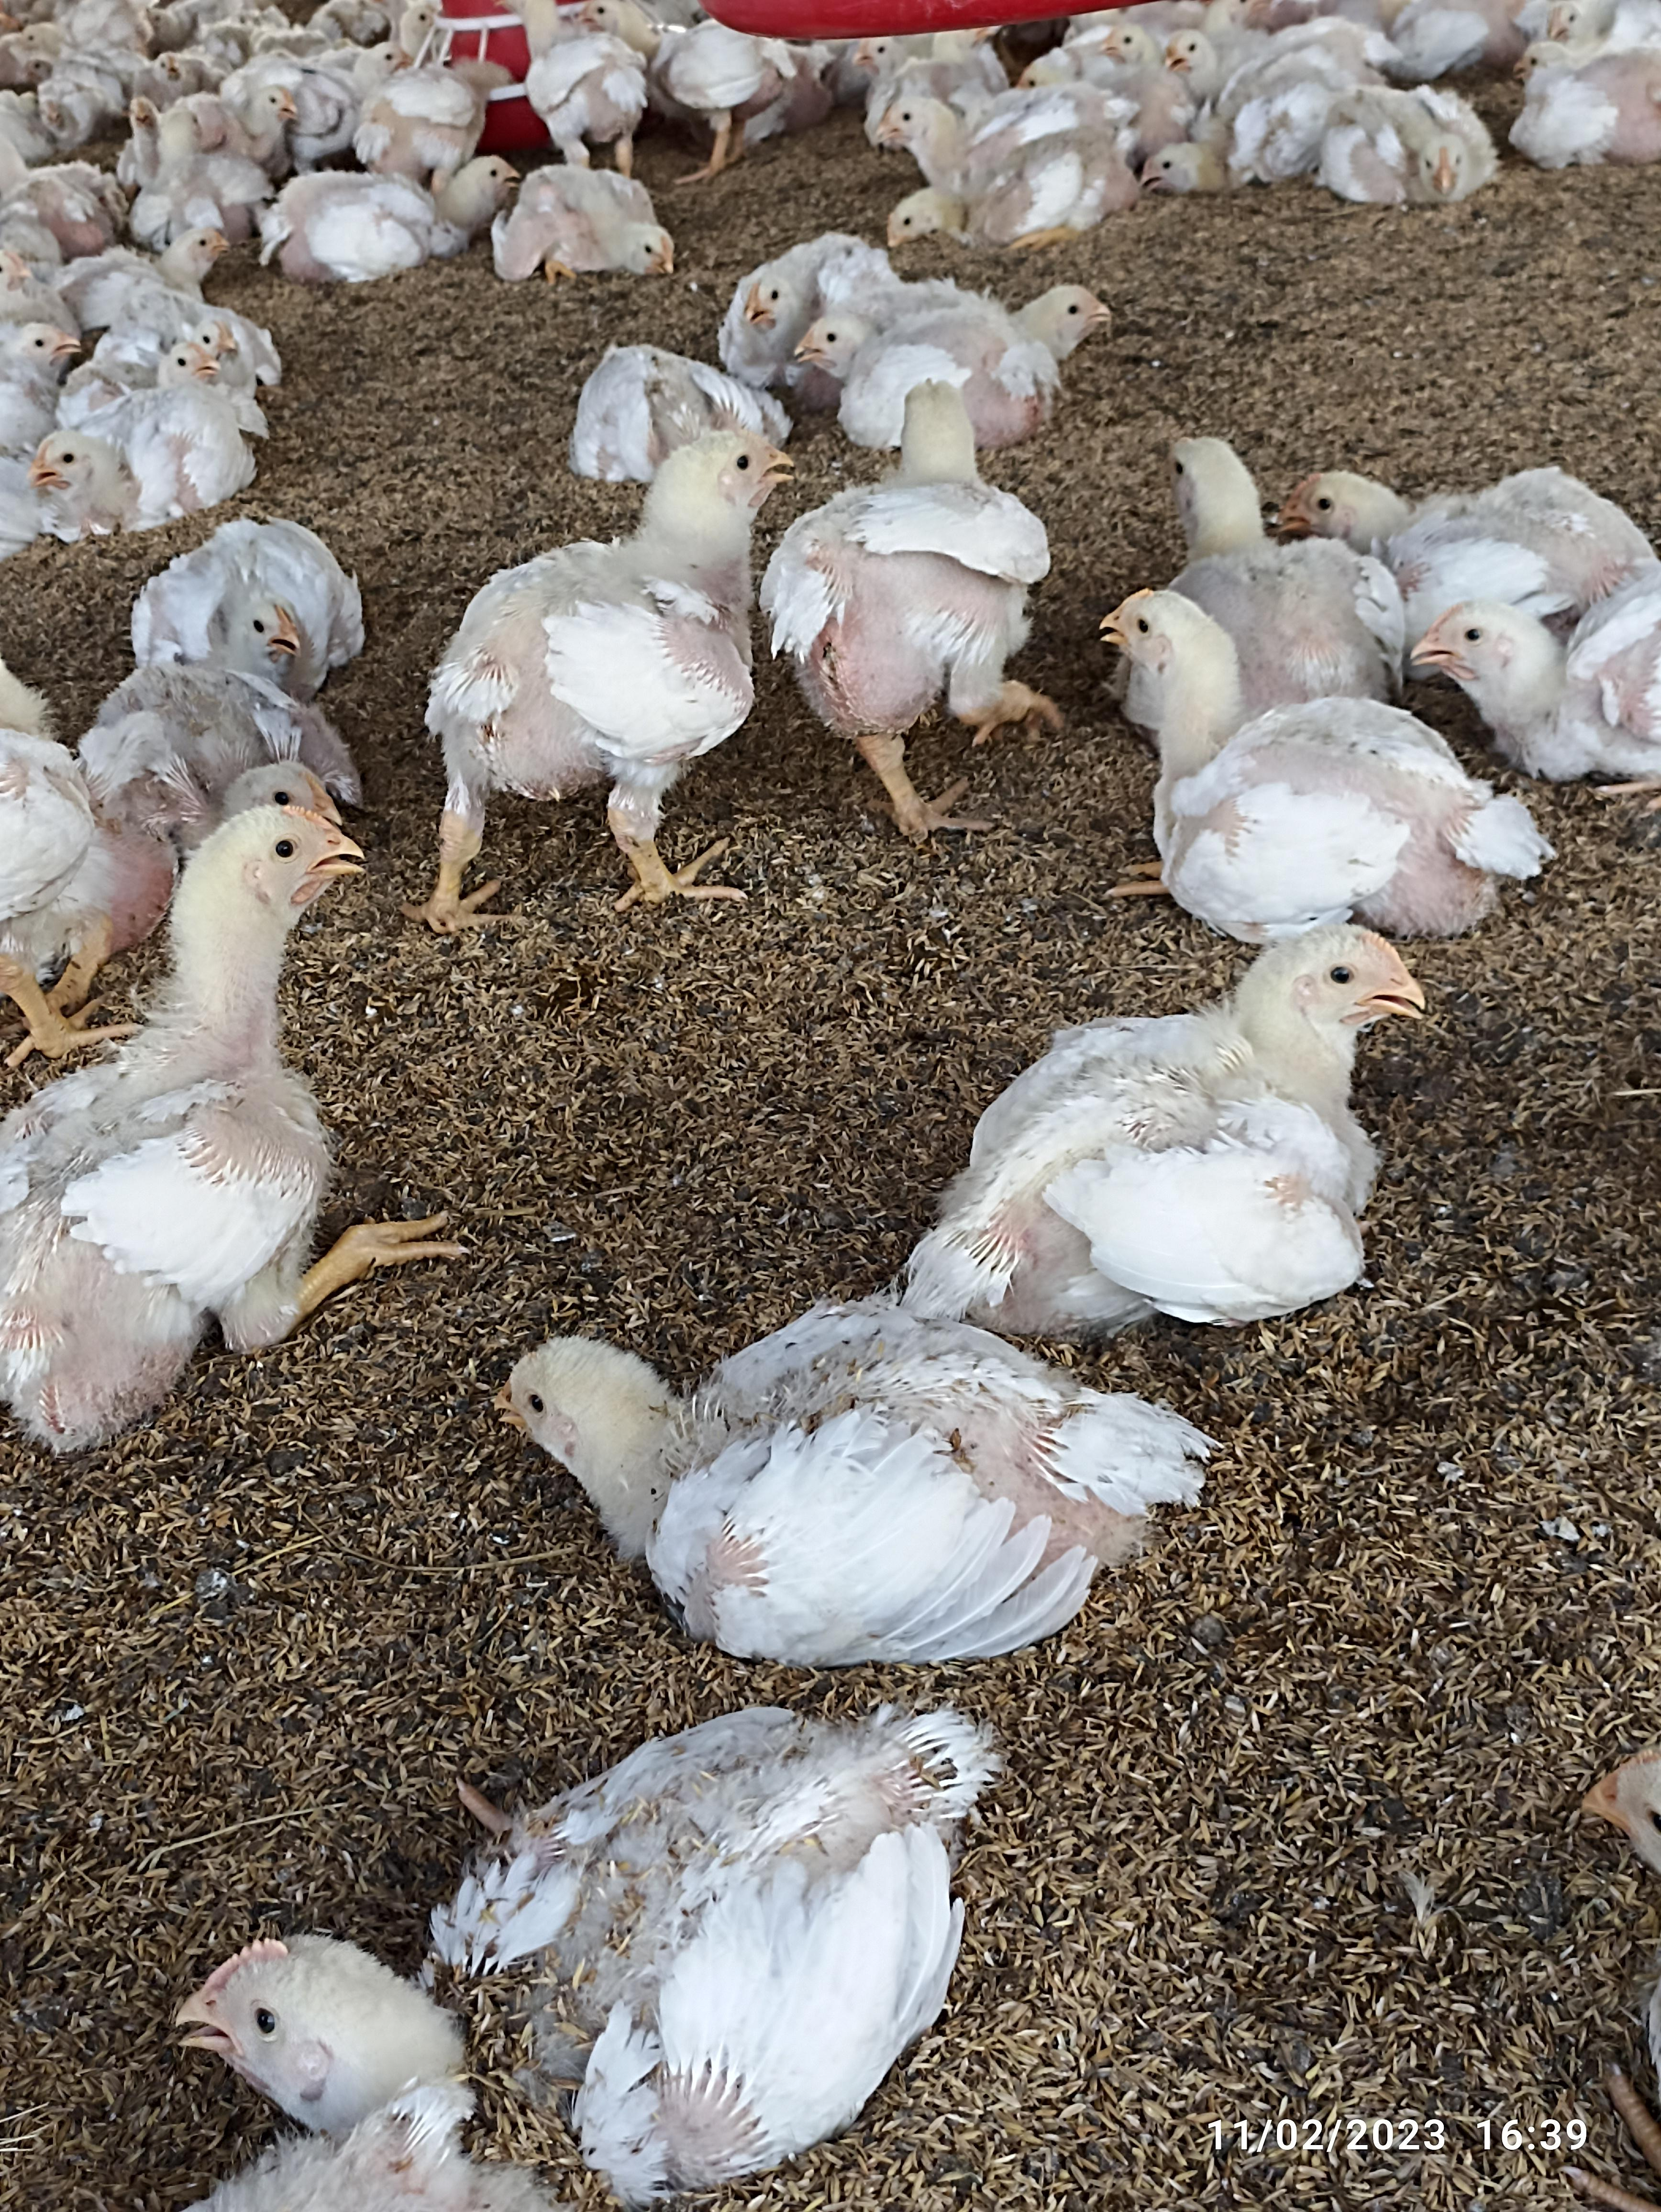Pollos: (190, 1685, 984, 2212), (508, 1305, 1188, 1656), (0, 806, 377, 1430), (937, 921, 1445, 1322), (414, 419, 782, 820), (1115, 579, 1523, 937), (794, 379, 1050, 727), (1281, 441, 1645, 618), (794, 256, 1085, 438), (143, 502, 352, 694), (45, 365, 229, 550), (45, 192, 225, 330), (504, 166, 700, 290), (851, 94, 1136, 166), (1317, 84, 1495, 192)
